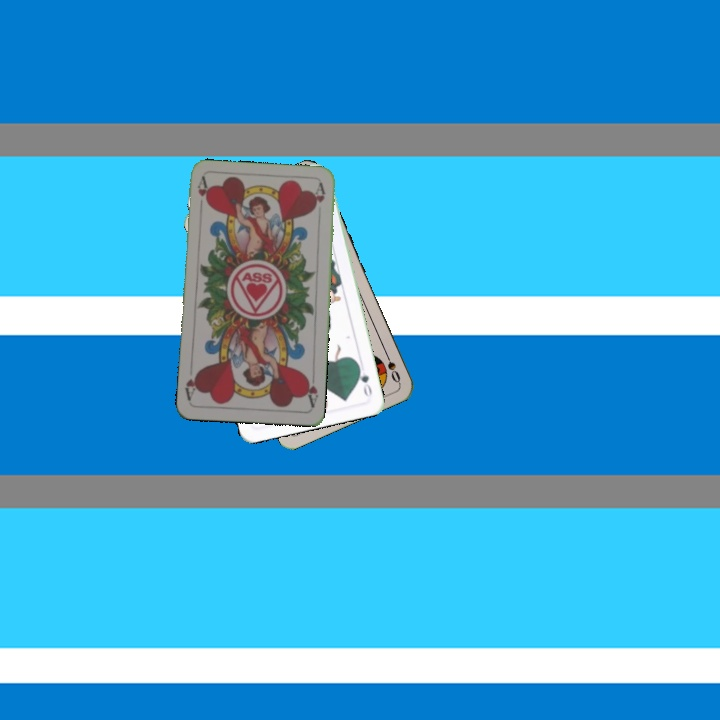GO: (354, 360, 374, 399)
HA: (301, 369, 321, 410), (193, 174, 211, 215)
SO: (380, 347, 403, 385)
